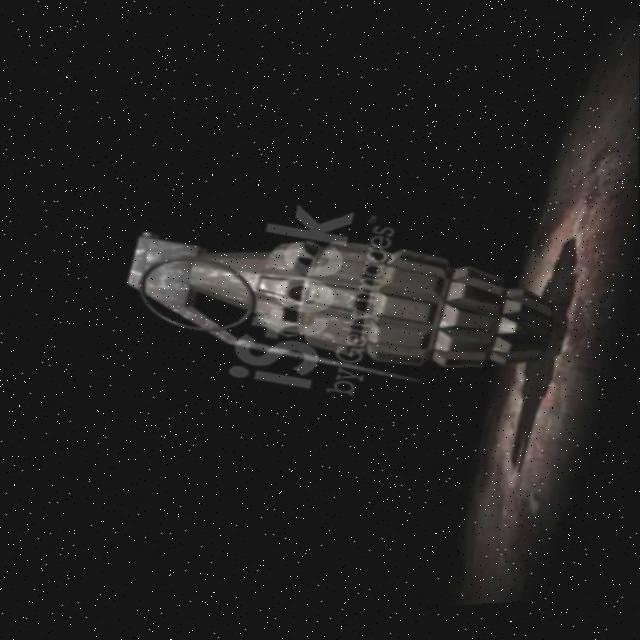grenade: (112, 171, 583, 438)
